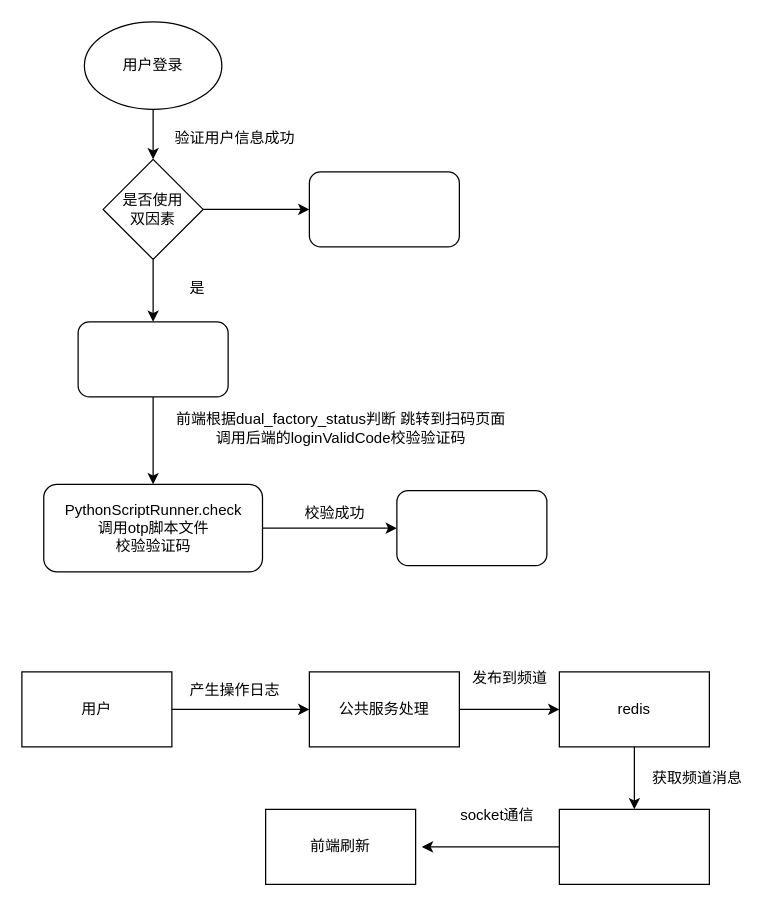
This 781x906 diagram has some shape labels left out. The centre of each missing label's shape, as x and y in pixels:
"登录成功" goes at point 471,527.
"登录成功，返回userId，和dual_factory_status" goes at point 152,359.
"登录成功，返回用户信息给前端" goes at point 383,209.
"系统服务处理" goes at point 633,846.
